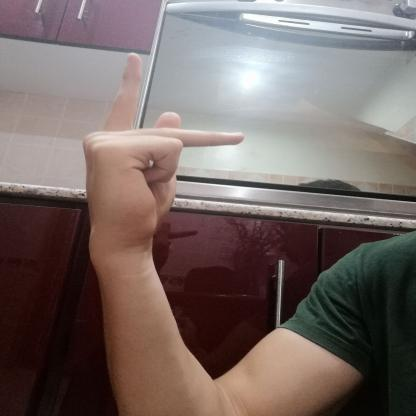DHAA: (68, 44, 259, 259)
